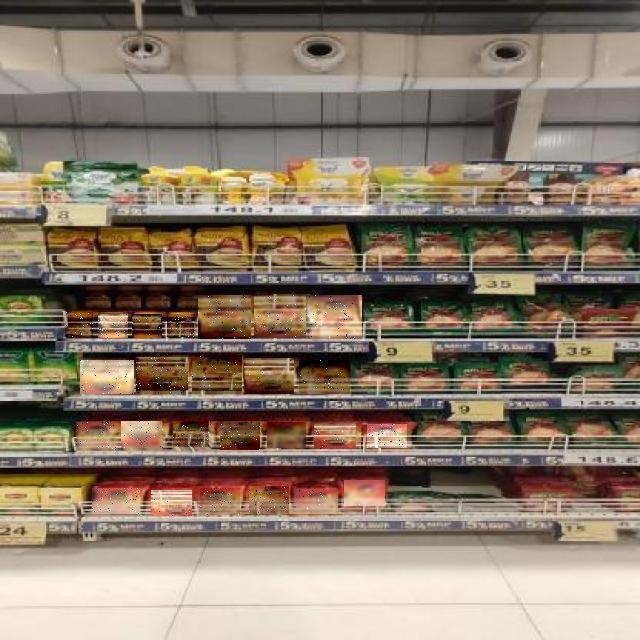Coffee: (306, 295, 362, 339), (198, 295, 251, 339), (254, 294, 306, 338), (192, 356, 242, 394), (137, 358, 189, 394), (80, 360, 134, 394), (244, 358, 294, 394), (299, 360, 350, 394), (92, 488, 140, 514), (122, 422, 164, 450), (220, 422, 260, 450), (76, 422, 116, 450), (249, 486, 289, 514), (315, 423, 357, 449), (200, 488, 240, 515), (151, 490, 192, 516), (344, 480, 385, 506), (174, 422, 212, 450), (296, 489, 338, 514), (268, 423, 308, 449), (368, 424, 410, 448), (98, 313, 128, 338), (132, 314, 162, 338), (65, 312, 93, 337), (167, 314, 195, 337)
